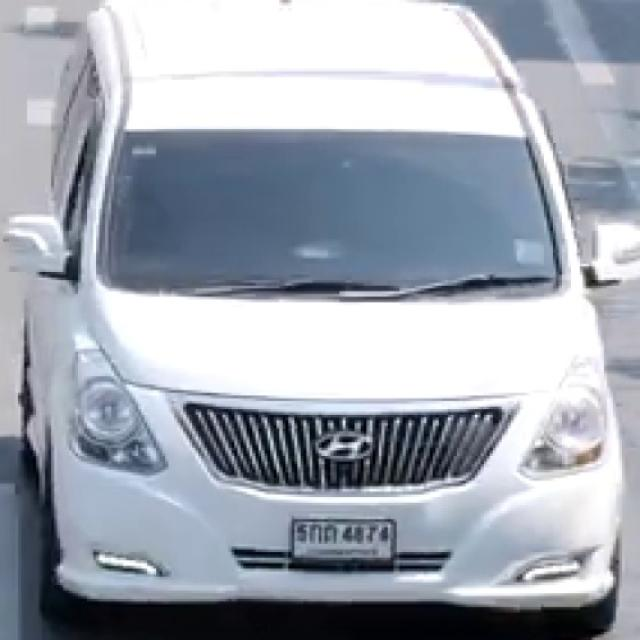plate: (289, 518, 397, 566)
